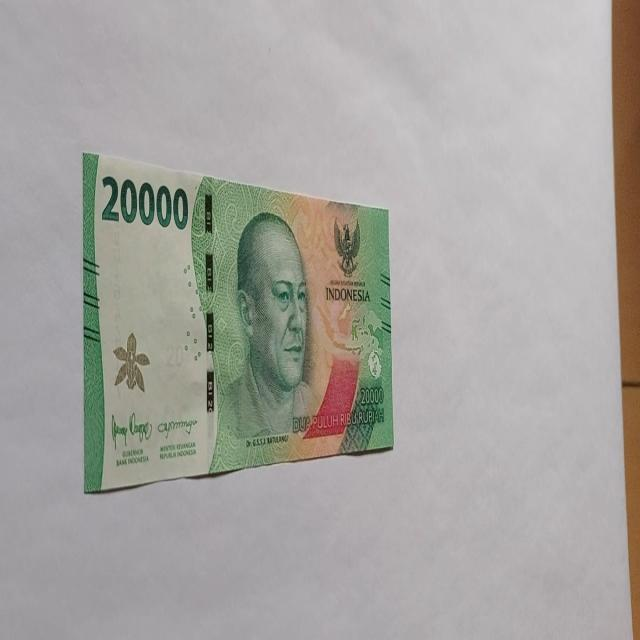dua puluh ribu rupiah: (81, 150, 394, 493)
